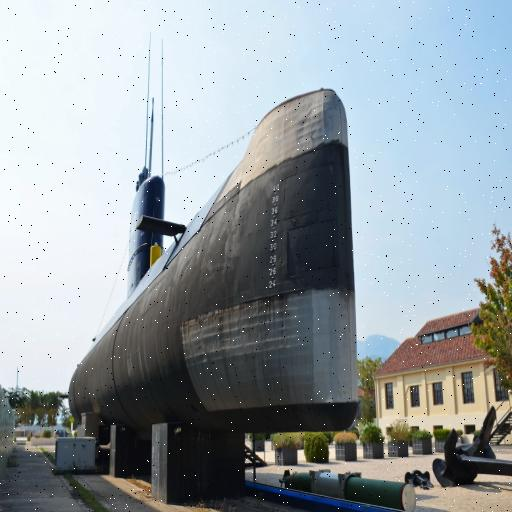submarine: (68, 27, 360, 435)
